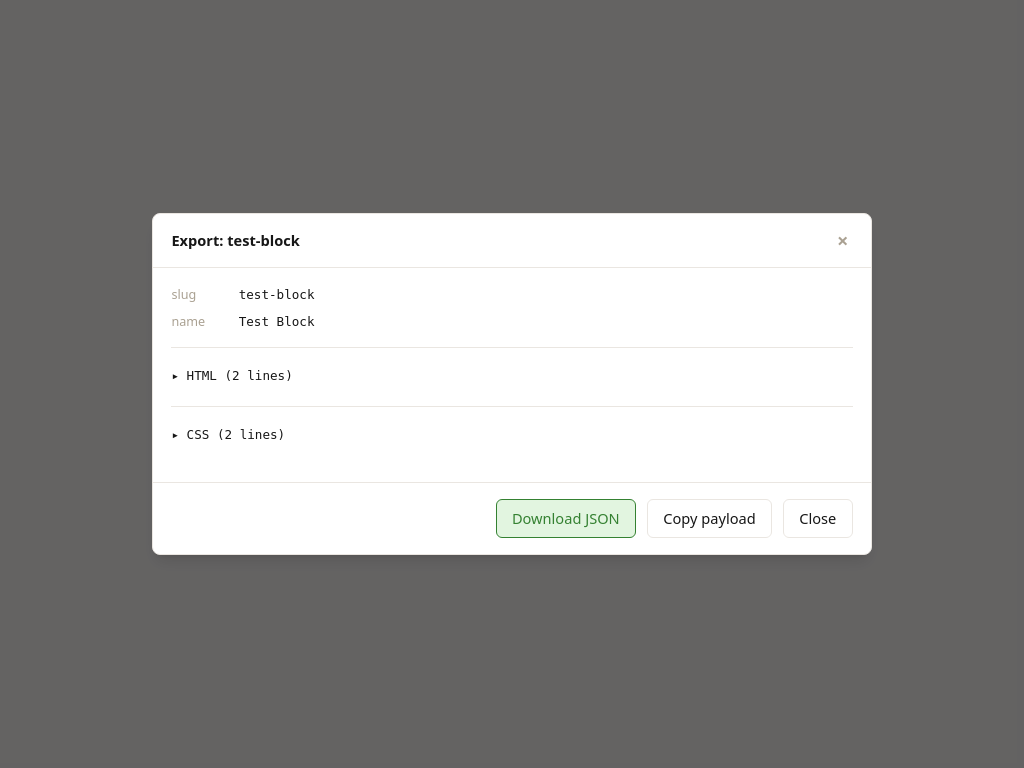
ExportDialog — toggle previews › reveals HTML preview content on toggle click
Click the button "▸ HTML (2 lines)" at (206, 376), box [171,359,852,394]
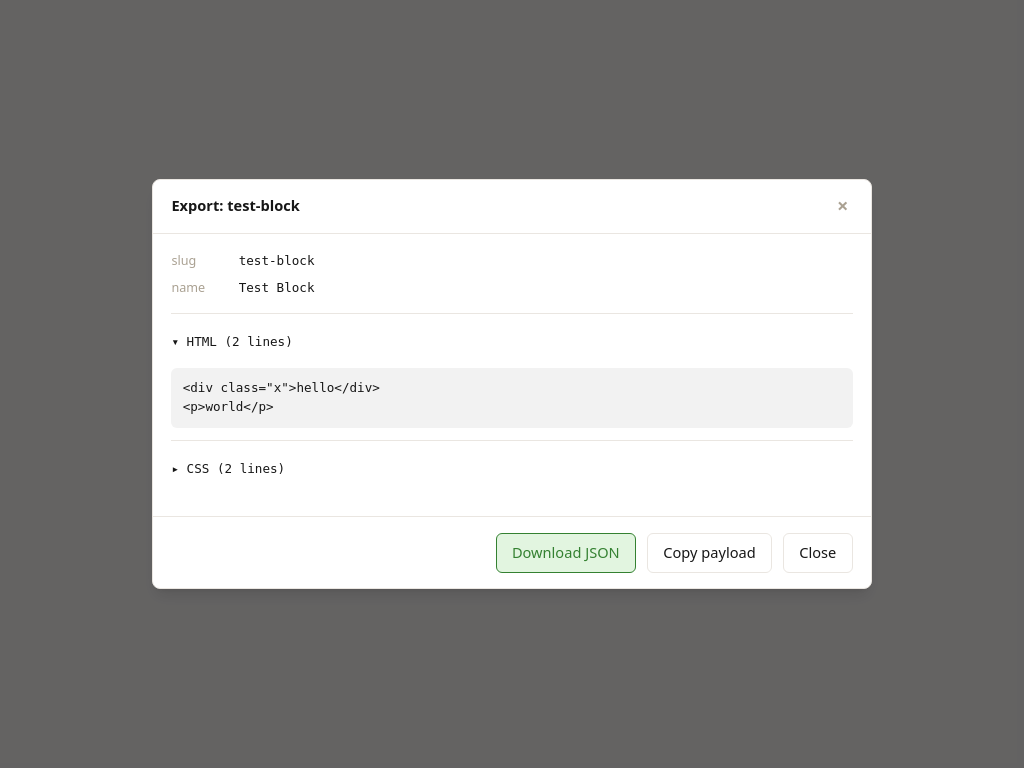
Result: the text "<div class=\"x\">hello</div> <p>world</p>" is shown at [171,368,852,428]
